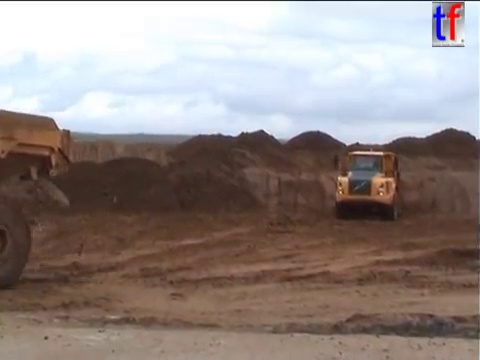truck: (1, 105, 77, 293), (329, 145, 402, 221)
